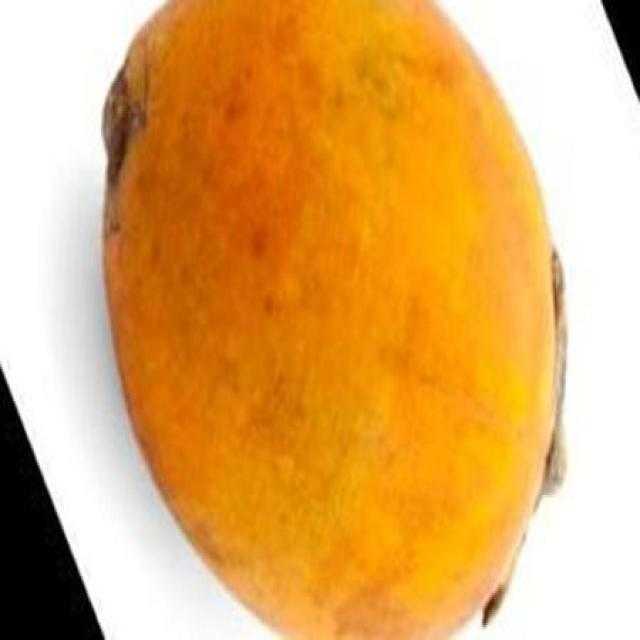good: (98, 0, 566, 638)
